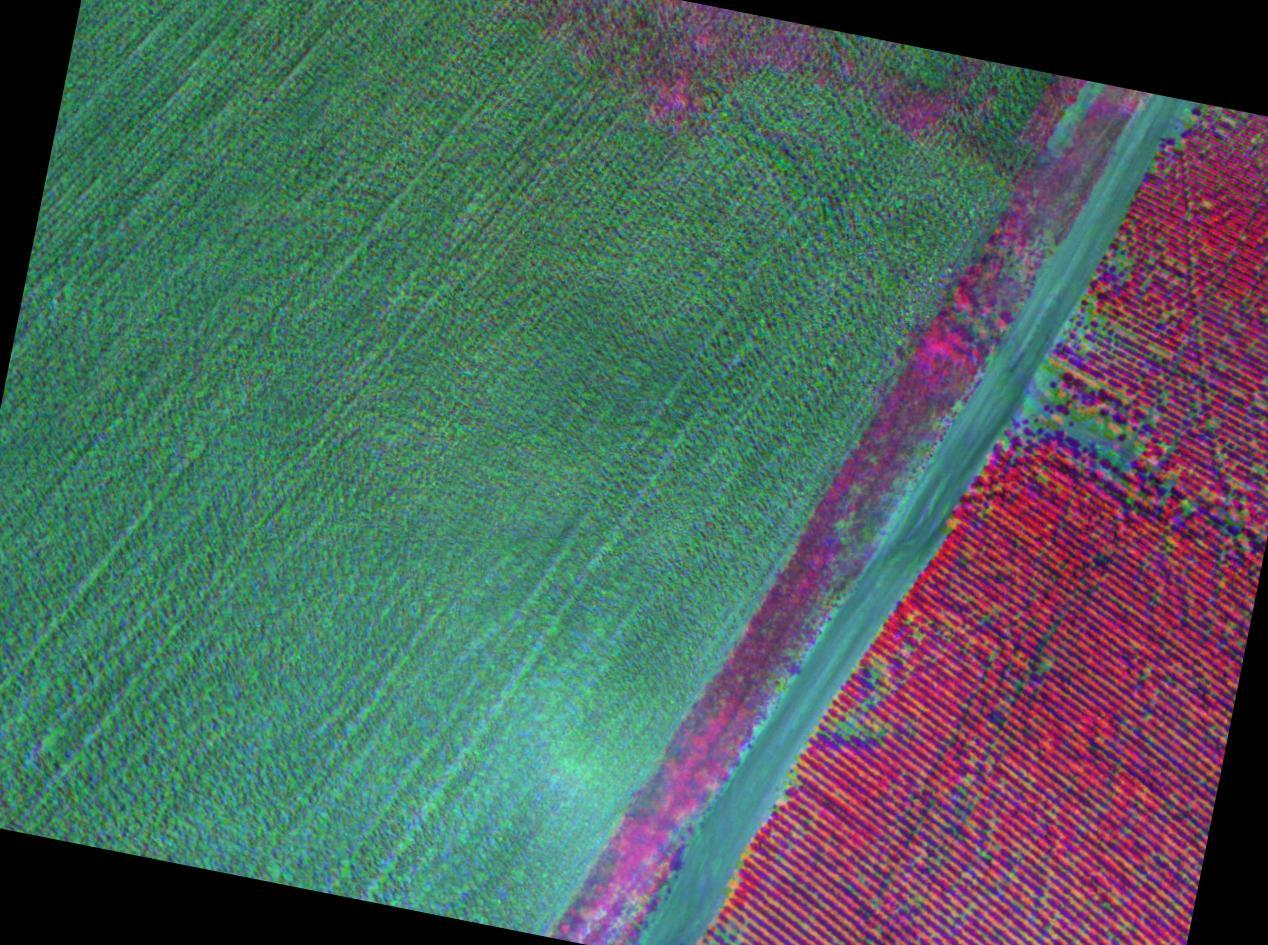dc: (1081, 423, 1089, 429), (1077, 432, 1083, 438), (722, 933, 728, 939), (1126, 451, 1131, 458), (1040, 664, 1047, 669), (1148, 411, 1153, 417), (843, 725, 849, 730), (792, 773, 797, 777)
